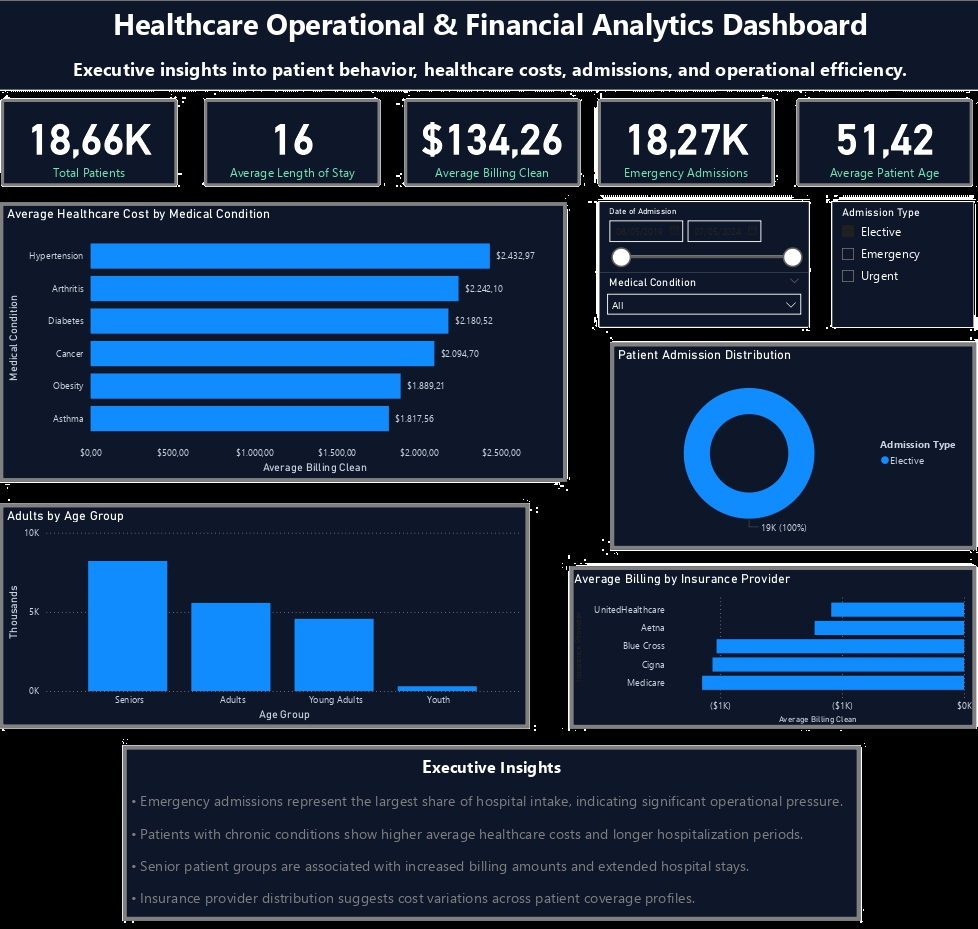

This screenshot's page, from the dashboard's own definition file:
{"tool":"powerbi","page":{"name":"Page 1","canvas":[1280,1200],"ordinal":0},"visuals":[{"type":"card","fields":{"Values":["healthcare_dataset.Total Patients"]},"box":[1.7,128.5,230.1,114.4],"z":0},{"type":"card","fields":{"Values":["healthcare_dataset.Average Billing Clean"]},"box":[527.4,128.5,230.1,114.4],"z":1000},{"type":"card","fields":{"Values":["healthcare_dataset.Average Length of Stay"]},"box":[267.5,128.5,230.1,114.4],"z":2000},{"type":"card","fields":{"Values":["healthcare_dataset.Emergency Admissions"]},"box":[781.3,128.5,230.1,114.4],"z":3000},{"type":"card","fields":{"Values":["healthcare_dataset.Average Patient Age"]},"box":[1039.4,128.7,229.8,113.8],"z":4000},{"type":"clusteredBarChart","title":"Average Healthcare Cost by Medical Condition","fields":{"Category":["healthcare_dataset.Medical Condition"],"Y":["healthcare_dataset.Average Billing Clean"]},"box":[18.8,263,738.8,365.2],"z":5000},{"type":"donutChart","title":"Patient Admission Distribution","fields":{"Category":["healthcare_dataset.Admission Type"],"Y":["healthcare_dataset.Total Patients"]},"box":[797.7,446.5,476.7,269.8],"z":6000},{"type":"columnChart","fields":{"Y":["CountNonNull(healthcare_dataset.Adults)"],"Category":["healthcare_dataset.Age Group"]},"box":[18.8,653.2,690.8,294.3],"z":7000},{"type":"clusteredBarChart","title":"Average Billing by Insurance Provider","fields":{"Category":["healthcare_dataset.Insurance Provider"],"Y":["healthcare_dataset.Average Billing Clean"]},"box":[744.2,737.2,530.2,211.6],"z":8000},{"type":"textbox","box":[0,0,1271.9,70.3],"z":9000},{"type":"textbox","box":[0,66.8,1271,50.1],"z":10000},{"type":"textbox","box":[161.7,972.3,961.7,227.7],"z":11000},{"type":"slicer","fields":{"Values":["healthcare_dataset.Date of Admission"]},"box":[782.6,262.9,273.1,91.7],"z":12000},{"type":"slicer","fields":{"Values":["healthcare_dataset.Medical Condition"]},"box":[782.6,354.6,273.1,71.3],"z":13000},{"type":"slicer","fields":{"Values":["healthcare_dataset.Admission Type"]},"box":[1086,262.8,183.7,162.8],"z":14000}]}

Visuals, with their boxes in screenshot pixels (x1, y1, x2, y2), scaled from the page's 1280x1200 canvas onto the 978x929 screenshot:
card - healthcare_dataset.Total Patients: rect(1, 99, 177, 188)
card - healthcare_dataset.Average Billing Clean: rect(403, 99, 579, 188)
card - healthcare_dataset.Average Length of Stay: rect(204, 99, 380, 188)
card - healthcare_dataset.Emergency Admissions: rect(597, 99, 773, 188)
card - healthcare_dataset.Average Patient Age: rect(794, 100, 970, 188)
"Average Healthcare Cost by Medical Condition" clusteredBarChart: rect(14, 204, 579, 486)
"Patient Admission Distribution" donutChart: rect(609, 346, 974, 555)
columnChart - CountNonNull(healthcare_dataset.Adults) x healthcare_dataset.Age Group: rect(14, 506, 542, 734)
"Average Billing by Insurance Provider" clusteredBarChart: rect(569, 571, 974, 735)
textbox: rect(0, 0, 972, 54)
textbox: rect(0, 52, 971, 91)
textbox: rect(124, 753, 858, 928)
slicer - healthcare_dataset.Date of Admission: rect(598, 204, 807, 275)
slicer - healthcare_dataset.Medical Condition: rect(598, 275, 807, 330)
slicer - healthcare_dataset.Admission Type: rect(830, 203, 970, 329)
